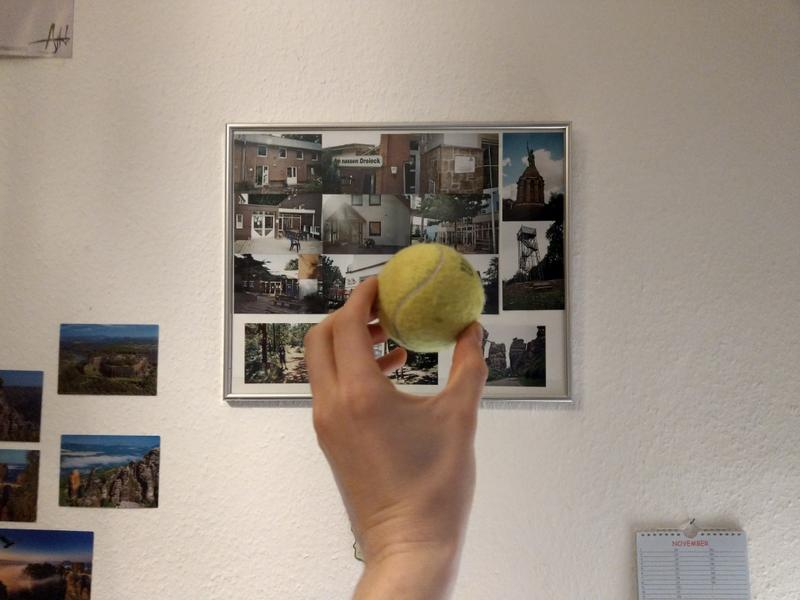Tennisball: (375, 237, 488, 357)
